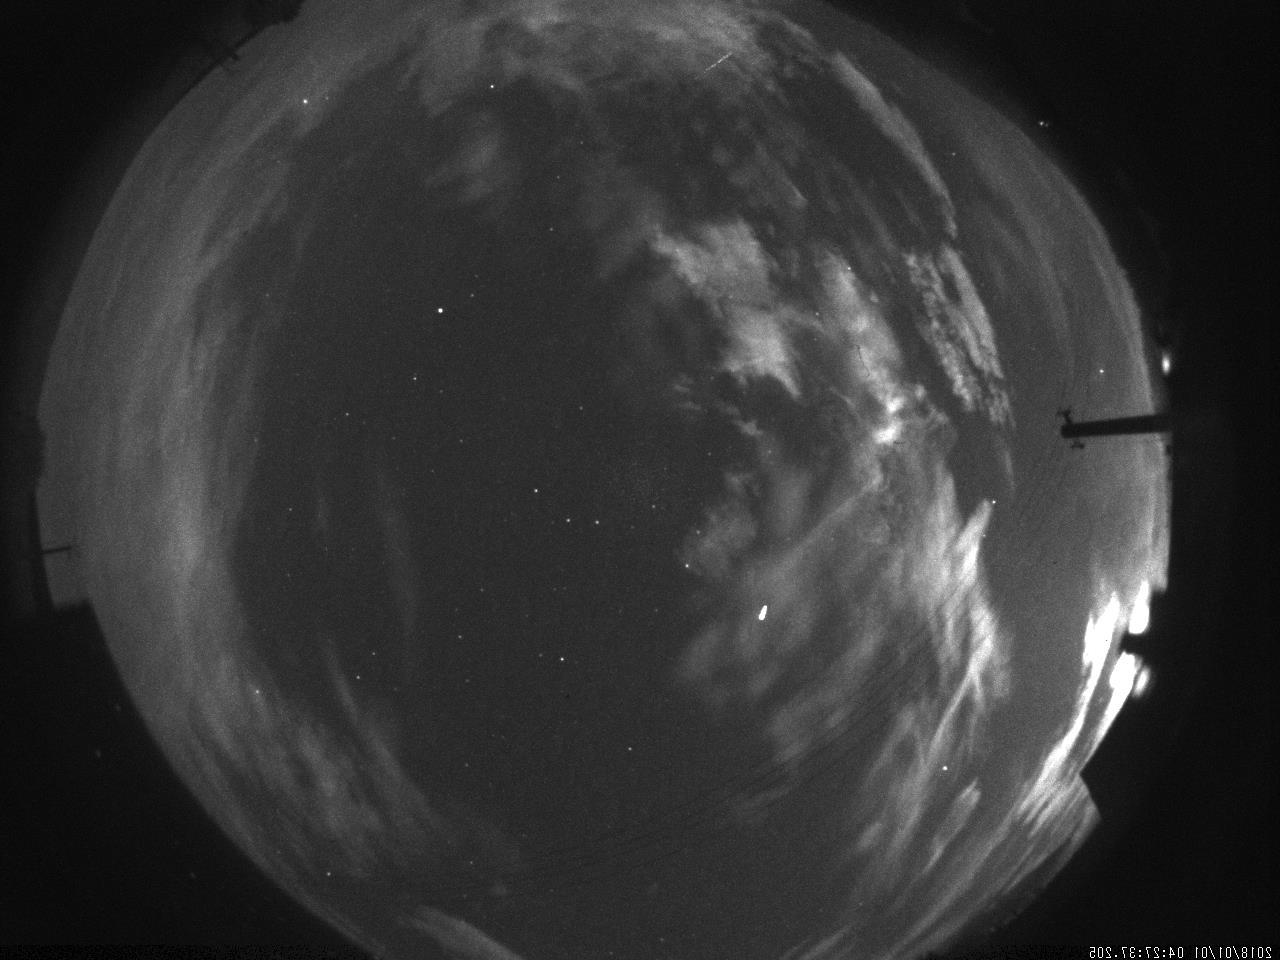meteor: (690, 47, 740, 84)
